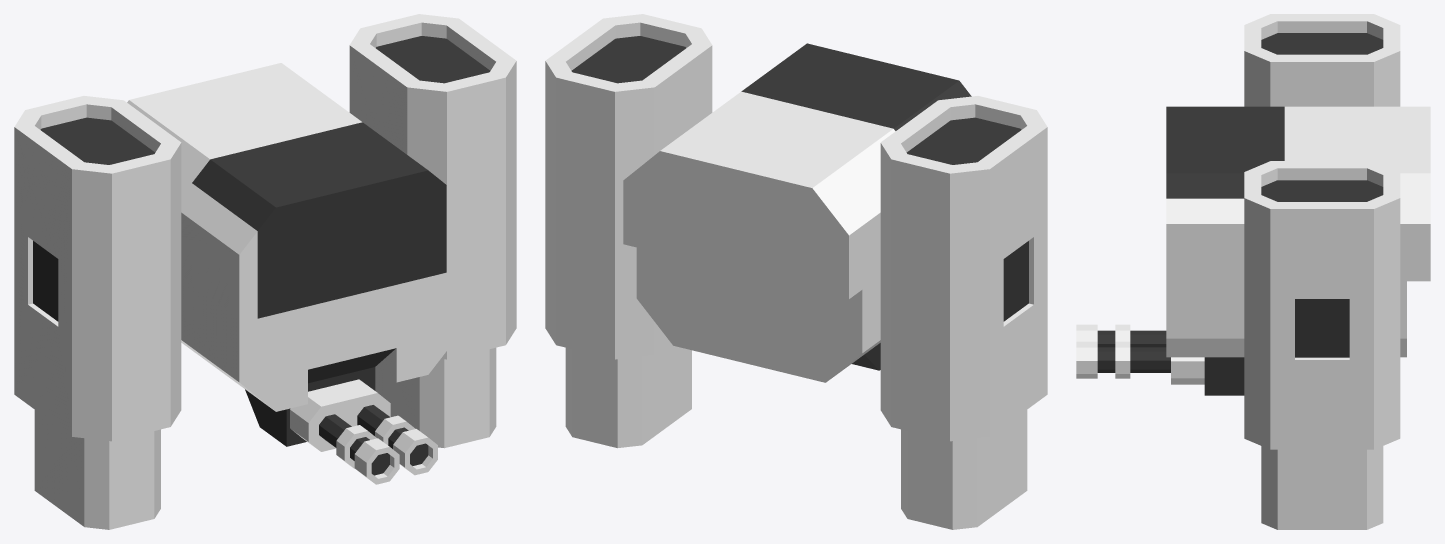
The model's file is Drone.fbx.
3 renders of one model, left to right at view 1: azimuth 30°, elevation 25°; view 2: azimuth 150°, elevation 25°; view 3: azimuth 270°, elevation 25°, orthographic. The views are drawn at different scales.
Visible parts, largest first — view 1: Thruster_Mesh, Drone_Base_Mesh, Thruster_FX, Turret_Mesh; view 2: Thruster_Mesh, Drone_Base_Mesh, Thruster_FX; view 3: Thruster_Mesh, Drone_Base_Mesh, Thruster_FX, Turret_Mesh.
Part boxes in pixels (box(x1,y1,x2,y2)): Thruster_Mesh: box(14, 14, 516, 441); Drone_Base_Mesh: box(127, 63, 464, 446); Thruster_FX: box(34, 347, 496, 529); Turret_Mesh: box(290, 379, 437, 484); Thruster_Mesh: box(545, 14, 1047, 441); Drone_Base_Mesh: box(623, 43, 971, 382); Thruster_FX: box(565, 343, 1027, 529); Thruster_Mesh: box(1244, 14, 1400, 449); Drone_Base_Mesh: box(1166, 106, 1430, 395); Thruster_FX: box(1261, 446, 1383, 529); Turret_Mesh: box(1076, 324, 1204, 384).
Size of the model in its own units: 1.18 by 0.9252 by 0.9057.
